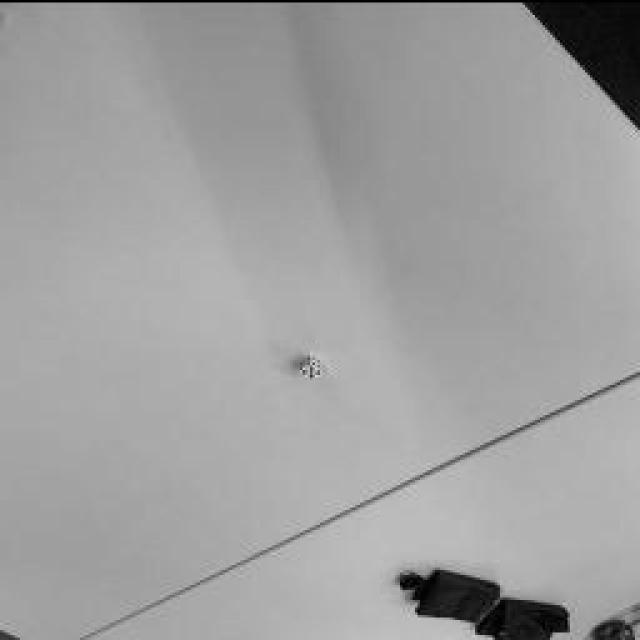dice_5: (298, 362, 324, 378)
